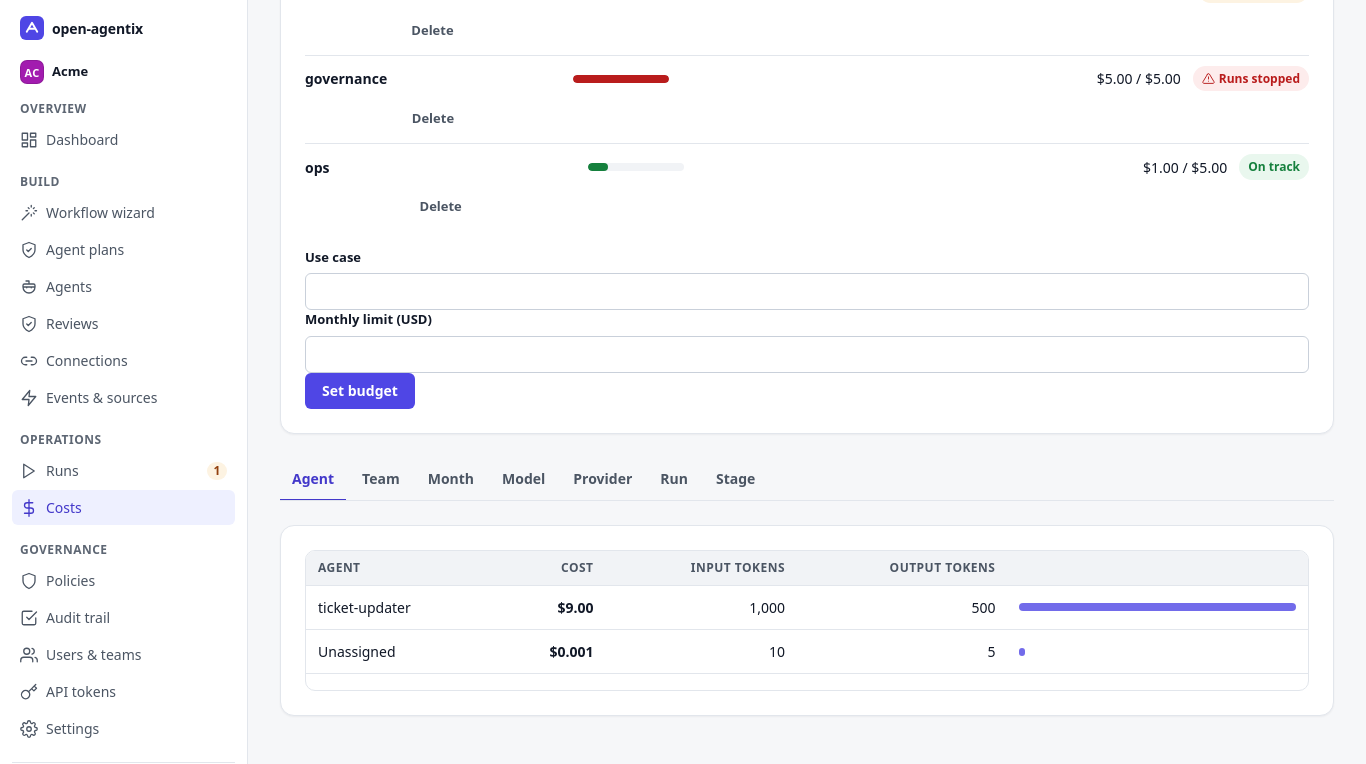
monthly budgets › lets admins set and remove a use case budget and validates the form
(page scrolled)
Click the button "Set budget".
click(360, 391)  # box [305,373,415,409]
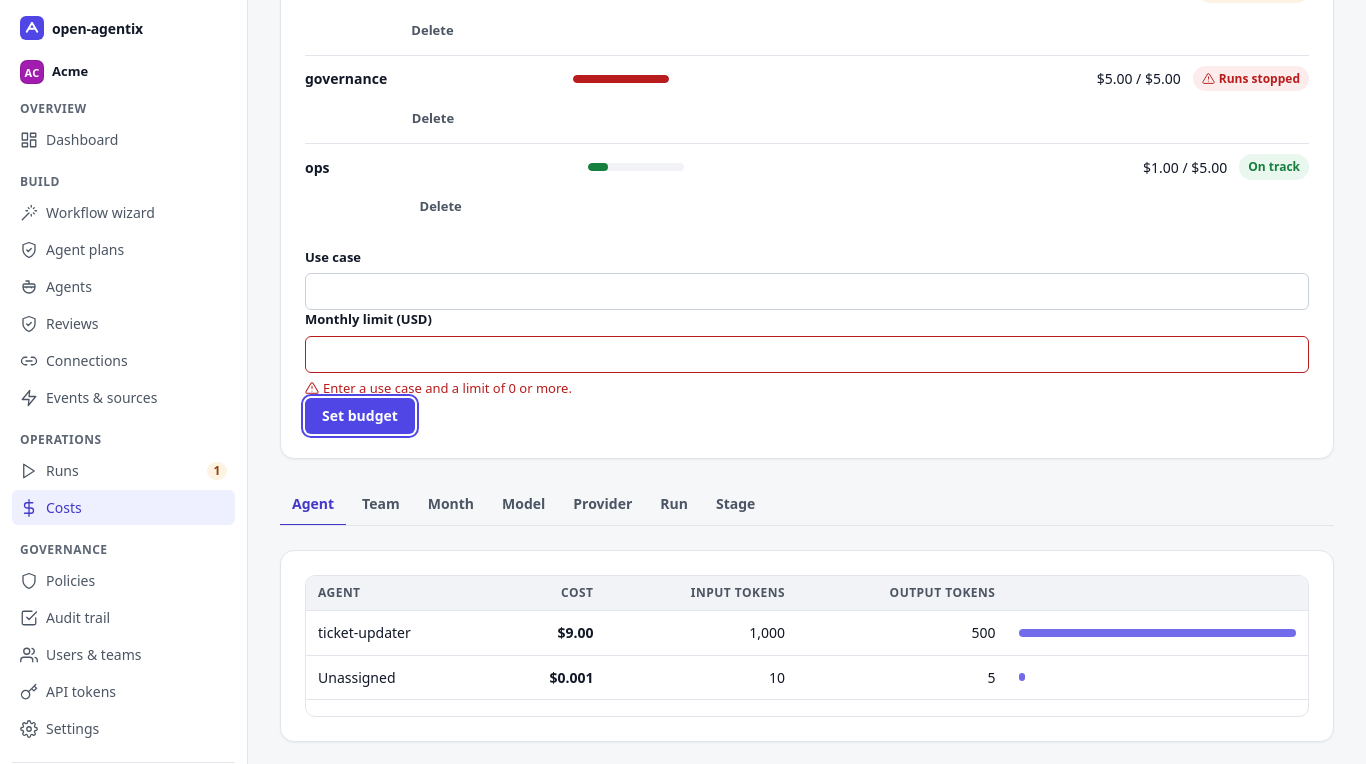
Now the text "Enter a use case and a limit of 0 or more." is shown, box [305,379,572,397]
Type "finance" into the field labelled "Use case".
click(807, 292); type("finance")  # box [305,273,1309,310]
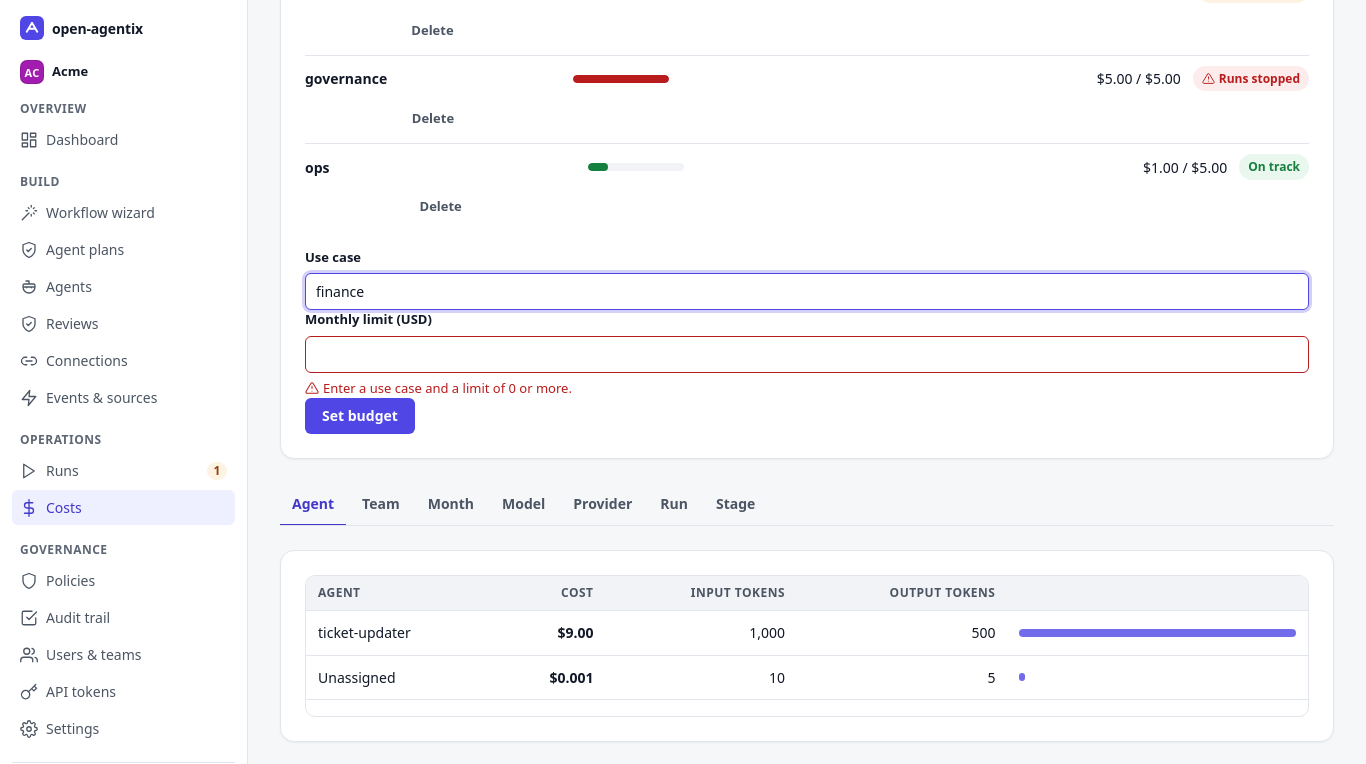
Type "25.5" into the number field labelled "Monthly limit (USD)".
click(807, 354); type("25.5")  # box [305,336,1309,373]
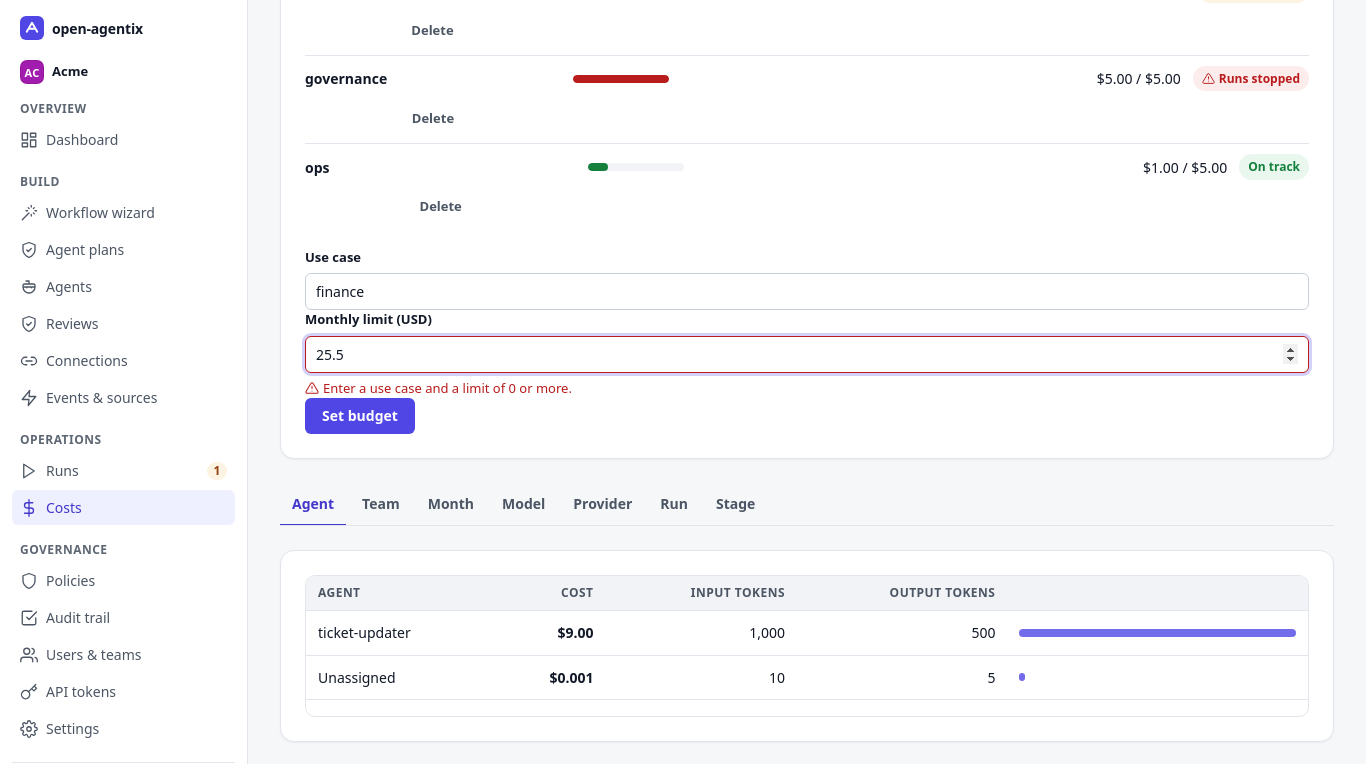
Click the button "Set budget".
click(360, 416)  # box [305,398,415,434]
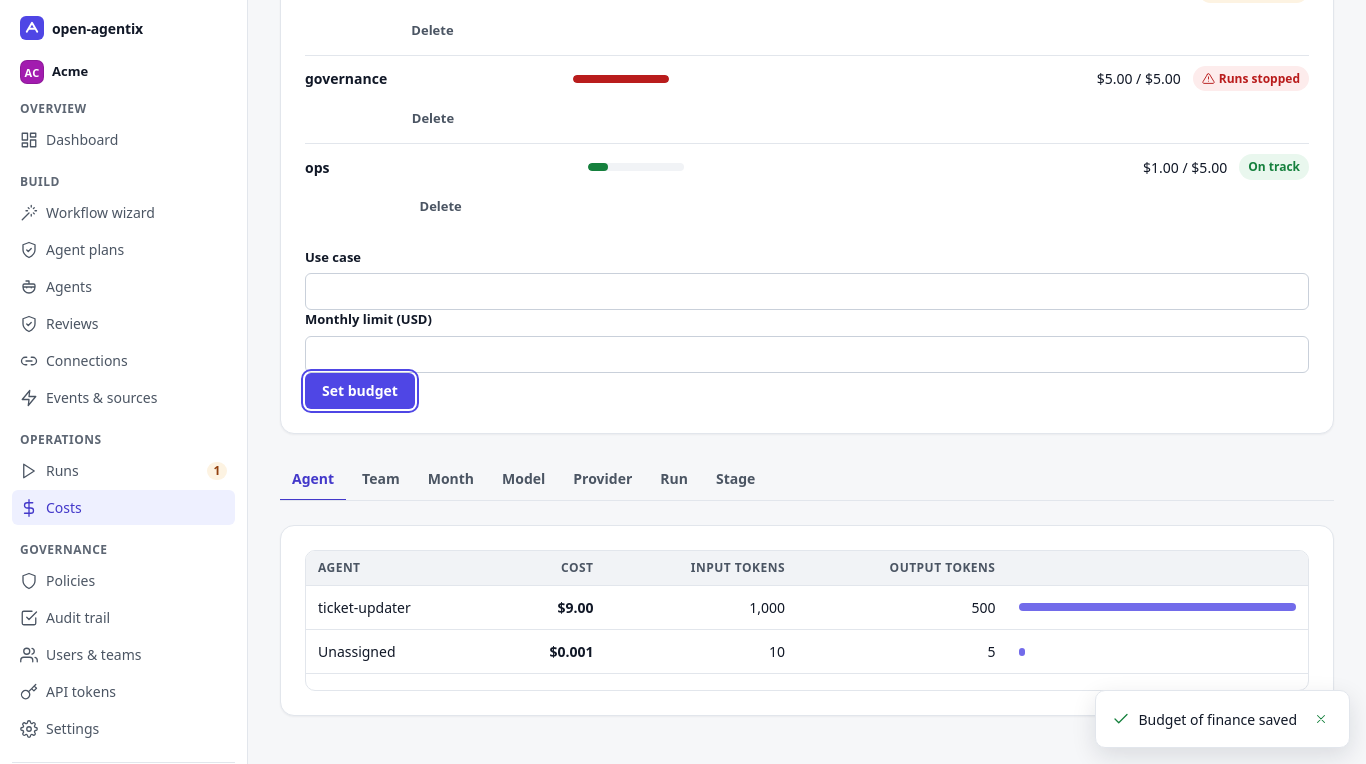
Now the text "Budget of finance saved" is shown, box [1138,708,1297,730]
Click the button with aria-label "Remove the budget of ops".
click(441, 207)  # box [305,192,576,222]
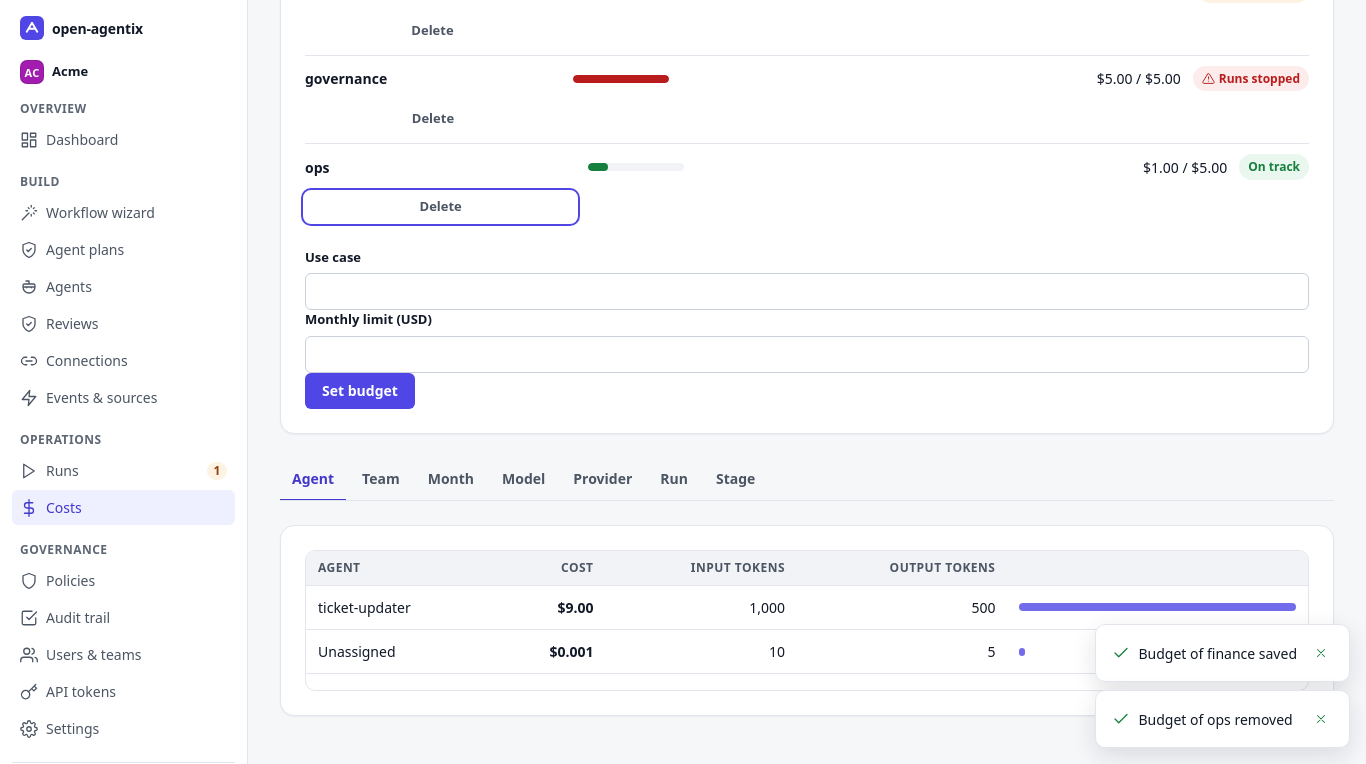
Now the text "Budget of ops removed" is shown, box [1138,708,1297,730]
